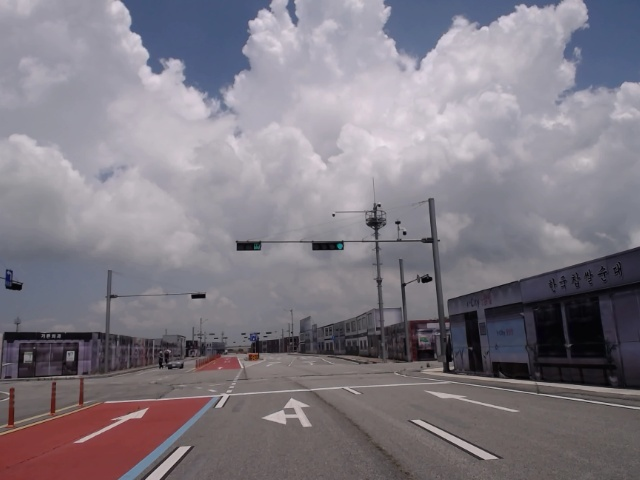straight_green_4: (313, 242, 343, 250)
